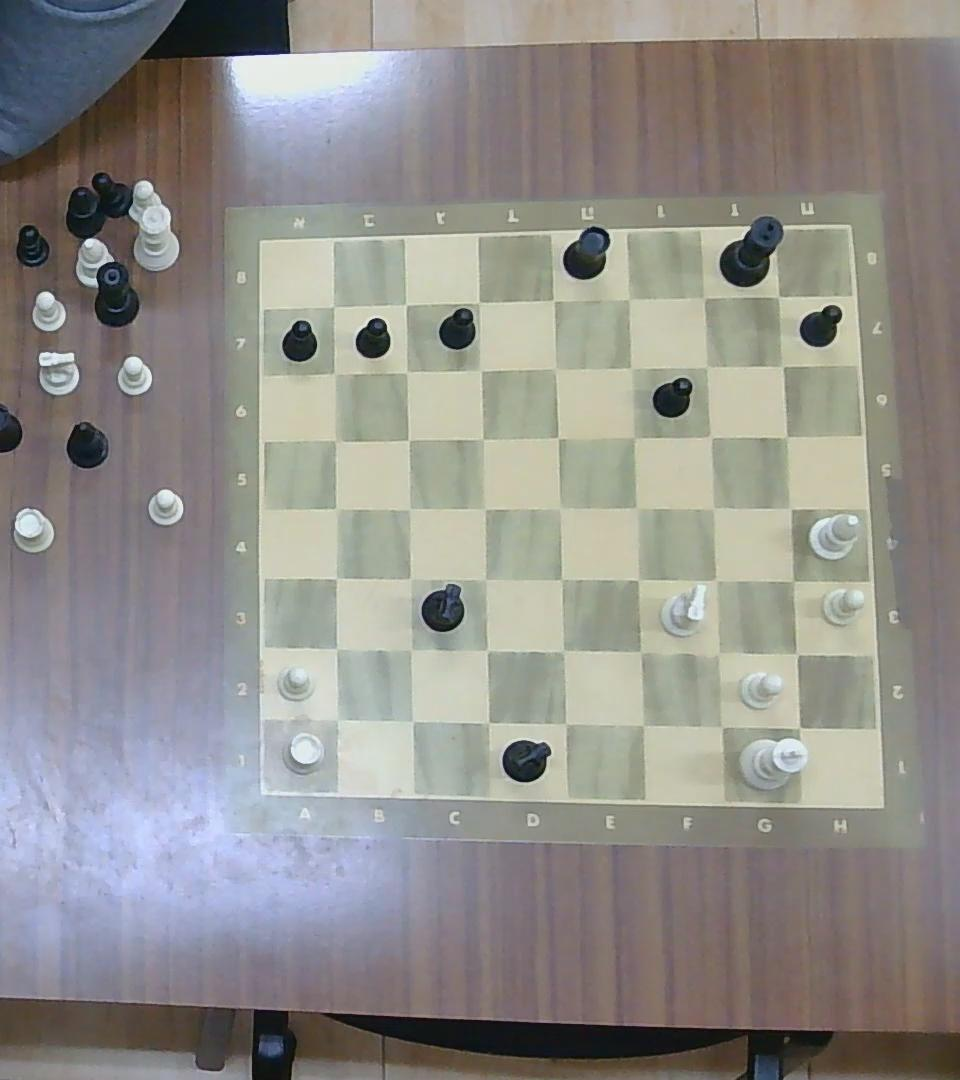xcorner: (703, 708, 738, 742), (781, 710, 815, 743), (701, 636, 735, 669), (548, 706, 580, 738), (625, 635, 656, 667), (626, 707, 657, 739), (320, 703, 352, 734), (780, 637, 812, 668), (472, 706, 503, 737), (622, 563, 652, 594), (396, 705, 427, 735), (698, 492, 728, 523), (776, 565, 807, 595), (548, 636, 578, 666), (700, 565, 730, 595), (547, 563, 576, 594), (622, 492, 651, 523), (472, 634, 501, 664), (776, 493, 806, 522), (545, 493, 574, 522), (395, 635, 424, 664), (321, 562, 350, 591), (321, 633, 350, 662), (471, 564, 500, 593), (471, 493, 499, 522), (545, 422, 573, 451), (617, 353, 645, 382), (323, 495, 351, 523), (396, 493, 423, 522), (395, 425, 423, 452), (468, 424, 495, 452), (542, 354, 570, 381), (396, 565, 424, 592), (772, 421, 800, 448), (615, 285, 643, 312), (621, 423, 648, 450), (693, 352, 720, 379), (691, 285, 719, 311), (467, 354, 493, 381), (697, 423, 723, 450), (769, 353, 797, 378), (323, 427, 349, 453), (540, 287, 566, 313), (393, 358, 420, 383), (766, 284, 792, 309), (323, 360, 348, 385), (466, 289, 491, 314), (393, 291, 419, 315), (322, 294, 345, 316)
